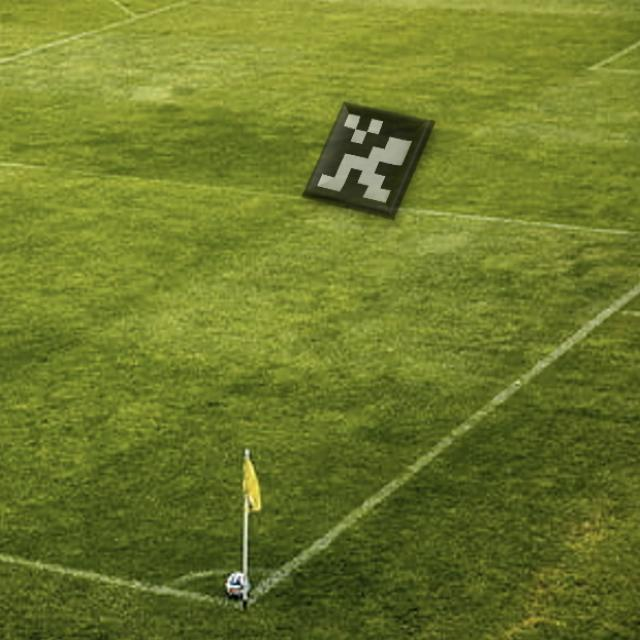marker: (296, 93, 443, 231)
